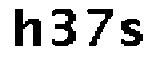3: (48, 7, 77, 49)
7: (86, 5, 113, 51)
h: (12, 3, 46, 51)
s: (120, 17, 145, 50)
